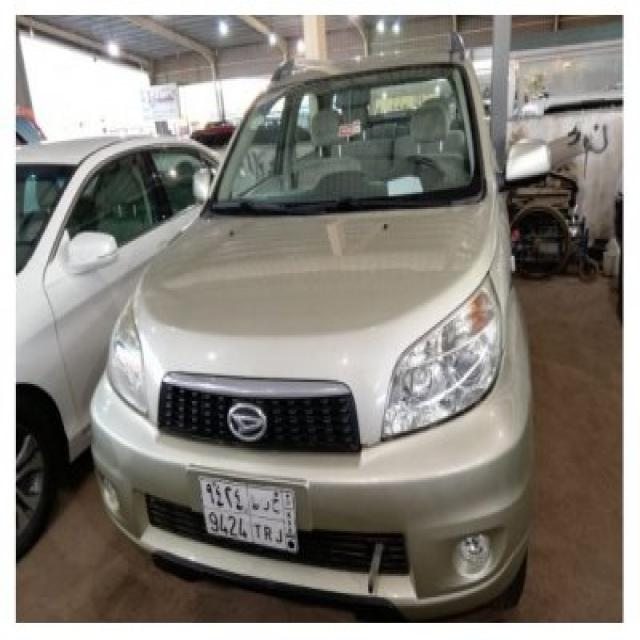license_plate: (198, 474, 301, 554)
